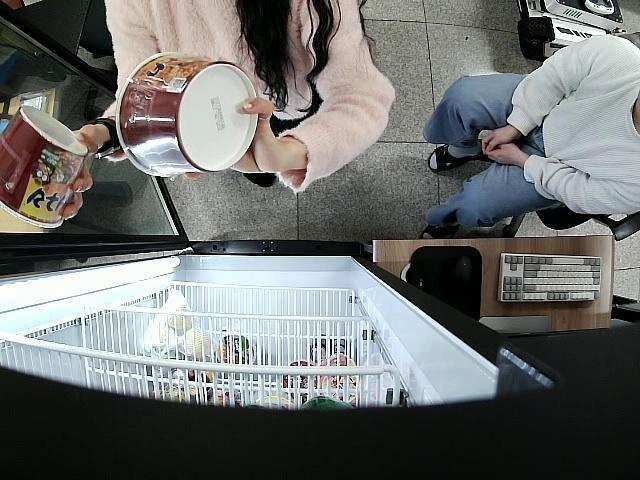05_nuguri_L: (116, 51, 256, 176), (0, 105, 89, 227)
